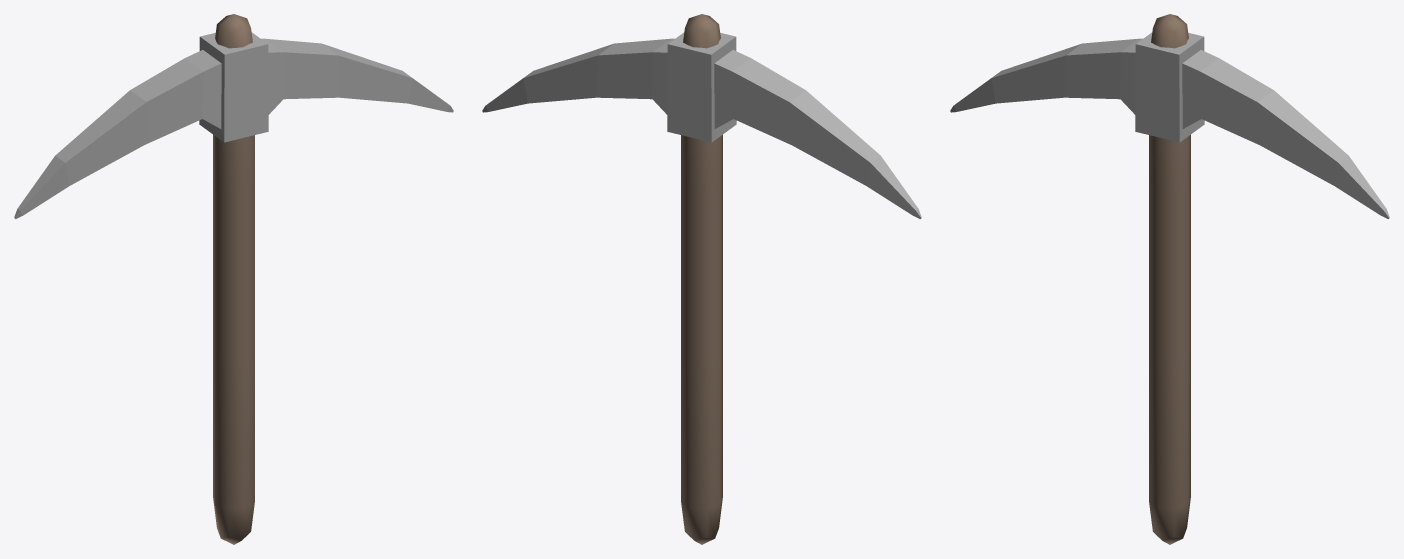
Rendered from pickaxe.fbx.
3 renders of one model, left to right at view 1: azimuth 30°, elevation 25°; view 2: azimuth 150°, elevation 25°; view 3: azimuth 330°, elevation 25°, orthographic.
Parts seen in each view (by area): view 1: Pick, Stick; view 2: Pick, Stick; view 3: Pick, Stick.
Part boxes in pixels (<box>): Pick: <box>14,32,453,218</box>; Stick: <box>213,14,254,544</box>; Pick: <box>482,32,921,218</box>; Stick: <box>681,14,722,544</box>; Pick: <box>950,32,1389,218</box>; Stick: <box>1149,14,1190,544</box>.
Bounding box in the file's own units: 233 × 269 × 22.86.
